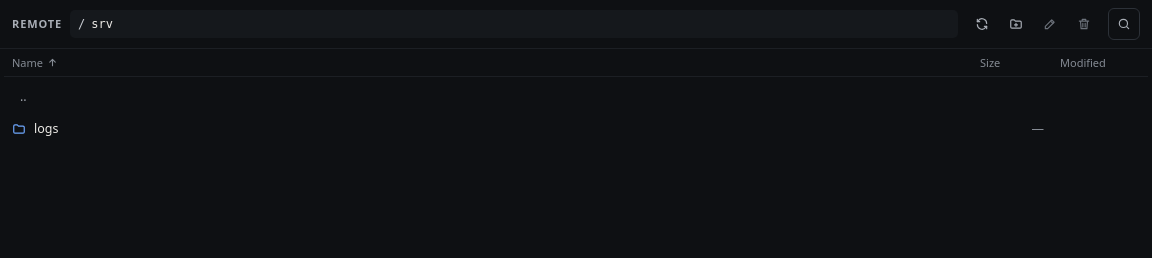
Test: FilePane search › marks results as partial and lists unreadable subtrees
Check: the text "logs" is shown, box x1=12 y1=120 x2=58 y2=137
Click the button named "Search files".
click(1124, 24)  # box x1=1108 y1=8 x2=1140 y2=40
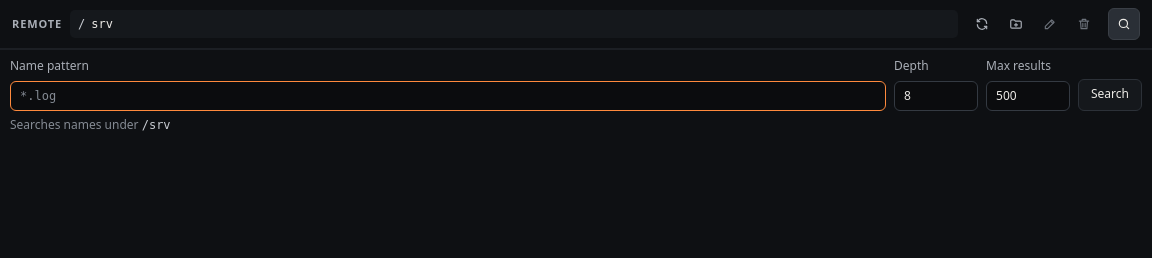
Type "log" into the field labelled "Name pattern".
click(448, 96); type("log")  # box x1=10 y1=81 x2=886 y2=111
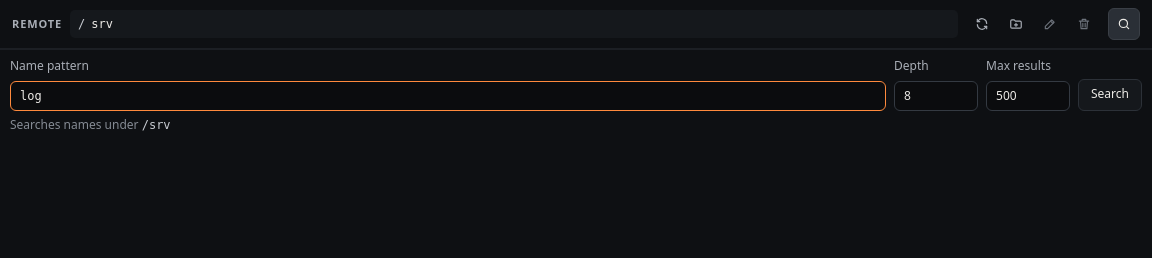
Click the button "Search".
click(1110, 95)  # box x1=1078 y1=79 x2=1142 y2=111
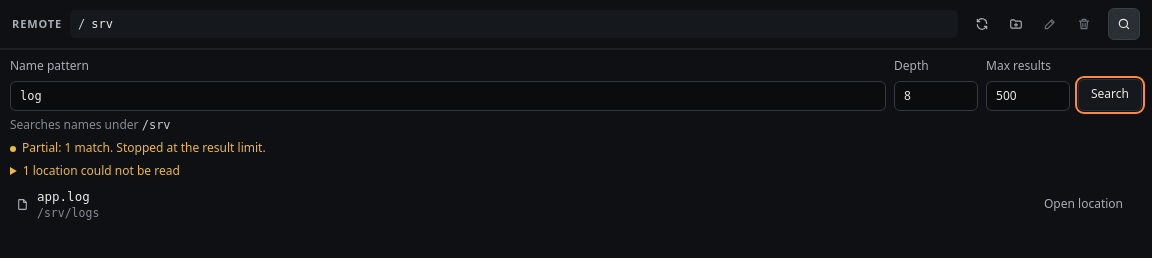
Check: the message reads "Partial: 1 match. Stopped at the result limit.", box x1=10 y1=139 x2=266 y2=156
Click the heading "1 location could not be read".
click(101, 170)  # box x1=23 y1=162 x2=180 y2=179
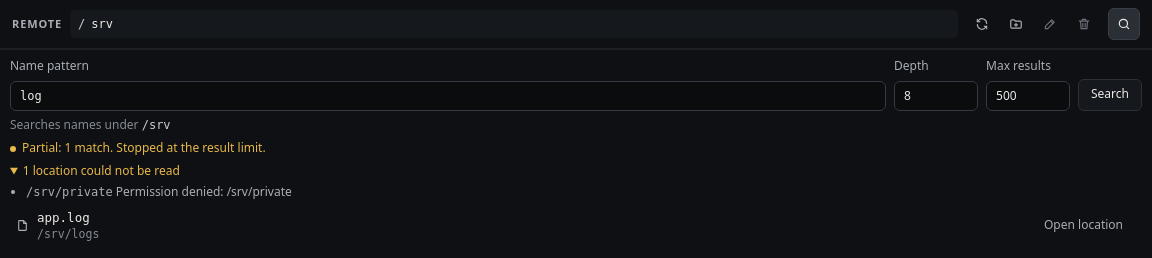
Check: the list item "Permission denied: /srv/private" is shown, box x1=116 y1=184 x2=292 y2=200
